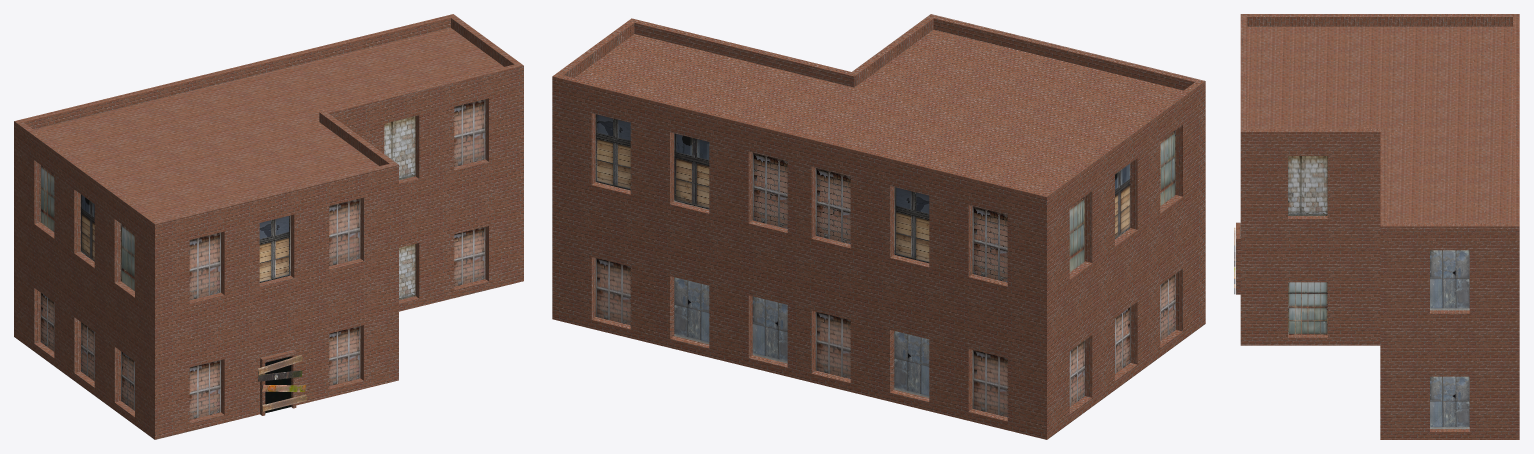
Rendered from building_07.fbx.
The picture shows the model from 3 angles, left to right: view 1: azimuth 30°, elevation 25°; view 2: azimuth 150°, elevation 25°; view 3: azimuth 270°, elevation 25°; orthographic projection. The views are drawn at different scales.
Parts seen in each view (by area): view 1: building_07; view 2: building_07; view 3: building_07.
Boxes of the visible parts, x1,y1,x2,y2 form: building_07: (14, 14, 523, 439); building_07: (552, 14, 1205, 439); building_07: (1234, 14, 1519, 439).
Bounding box in the file's own units: 20.24 × 9.49 × 11.5.
